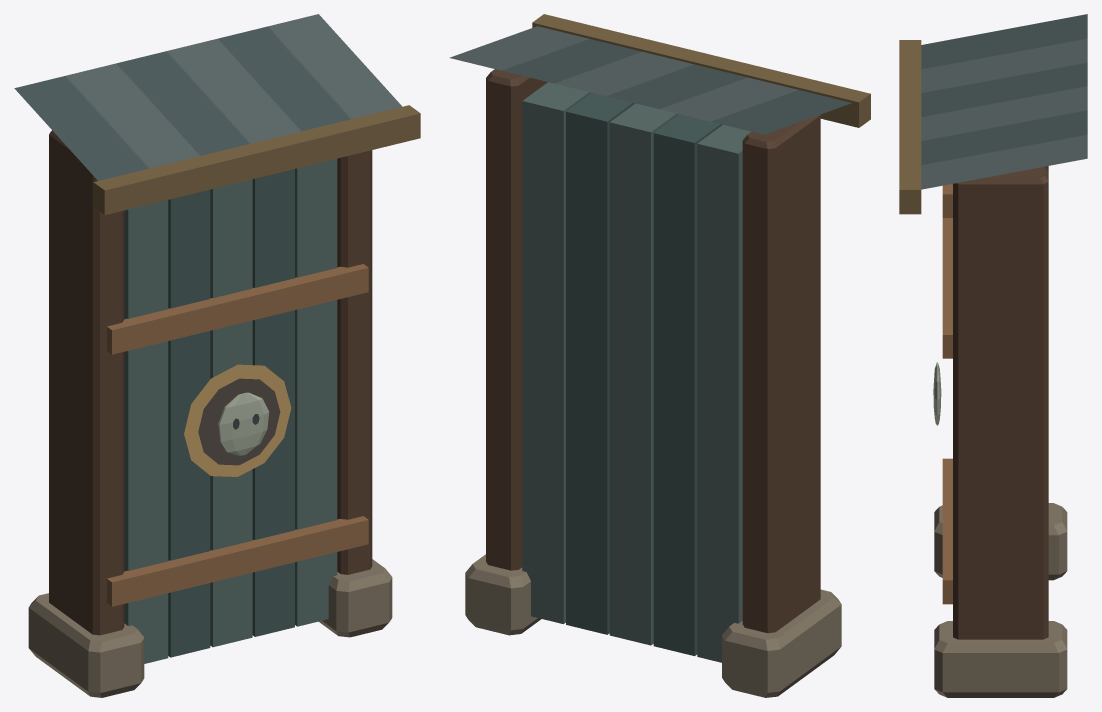
File: shop_post_gate.glb
The picture shows the model from 3 angles, left to right: view 1: azimuth 30°, elevation 25°; view 2: azimuth 150°, elevation 25°; view 3: azimuth 270°, elevation 25°; orthographic projection. The views are drawn at different scales.
Parts seen in each view (by area): view 1: shop_post_gate; view 2: shop_post_gate; view 3: shop_post_gate.
Boxes of the visible parts, box(x1,y1,x2,y2) form: shop_post_gate: box(14, 14, 420, 697); shop_post_gate: box(449, 14, 870, 697); shop_post_gate: box(899, 14, 1087, 697).
Size of the model in its own units: 0.8 by 1.35 by 0.425.
